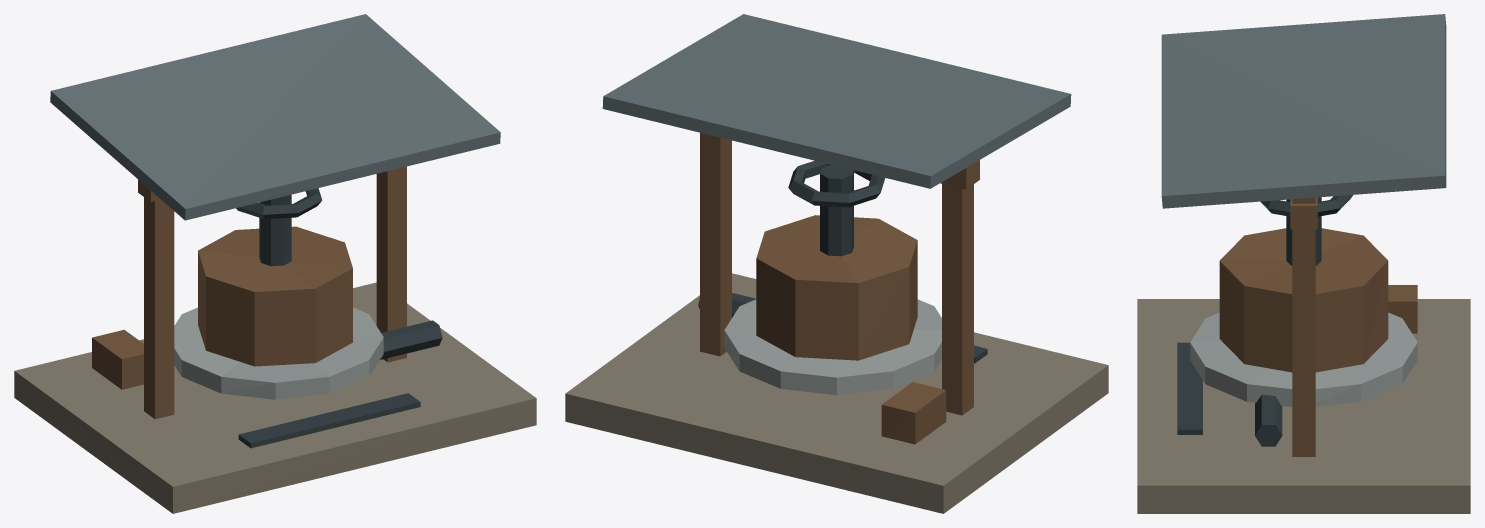
Rendered from Press.glb.
3 views of the same model, side by side, from view 1: azimuth 30°, elevation 25°; view 2: azimuth 150°, elevation 25°; view 3: azimuth 270°, elevation 25° (orthographic). The views are drawn at different scales.
Visible parts, largest first — view 1: wind-pump-static-press-weather-canopy, wind-pump-static-press-drainage-base, wind-pump-static-press-weathered-timber, wind-pump-static-press-collection-pan, wind-pump-static-press-dark-iron-frame; view 2: wind-pump-static-press-drainage-base, wind-pump-static-press-weather-canopy, wind-pump-static-press-weathered-timber, wind-pump-static-press-collection-pan, wind-pump-static-press-dark-iron-frame; view 3: wind-pump-static-press-weather-canopy, wind-pump-static-press-drainage-base, wind-pump-static-press-weathered-timber, wind-pump-static-press-collection-pan, wind-pump-static-press-dark-iron-frame.
Boxes of the visible parts, x1=… form: wind-pump-static-press-weather-canopy: x1=50, y1=14, x2=500, y2=220; wind-pump-static-press-drainage-base: x1=14, y1=282, x2=536, y2=513; wind-pump-static-press-weathered-timber: x1=92, y1=166, x2=406, y2=419; wind-pump-static-press-collection-pan: x1=174, y1=307, x2=383, y2=399; wind-pump-static-press-dark-iron-frame: x1=236, y1=188, x2=442, y2=448; wind-pump-static-press-drainage-base: x1=565, y1=273, x2=1108, y2=513; wind-pump-static-press-weather-canopy: x1=602, y1=14, x2=1071, y2=188; wind-pump-static-press-weathered-timber: x1=700, y1=132, x2=979, y2=444; wind-pump-static-press-collection-pan: x1=724, y1=299, x2=941, y2=395; wind-pump-static-press-dark-iron-frame: x1=698, y1=160, x2=987, y2=363; wind-pump-static-press-weather-canopy: x1=1161, y1=14, x2=1446, y2=208; wind-pump-static-press-drainage-base: x1=1137, y1=299, x2=1470, y2=513; wind-pump-static-press-weathered-timber: x1=1219, y1=197, x2=1417, y2=456; wind-pump-static-press-collection-pan: x1=1190, y1=312, x2=1417, y2=406; wind-pump-static-press-dark-iron-frame: x1=1177, y1=195, x2=1352, y2=446.
Bounding box in the file's own units: 2.25 × 1.83 × 1.7.
